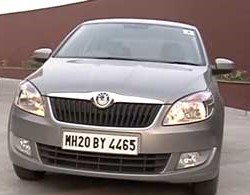MH20BY4465: (62, 130, 138, 154)
